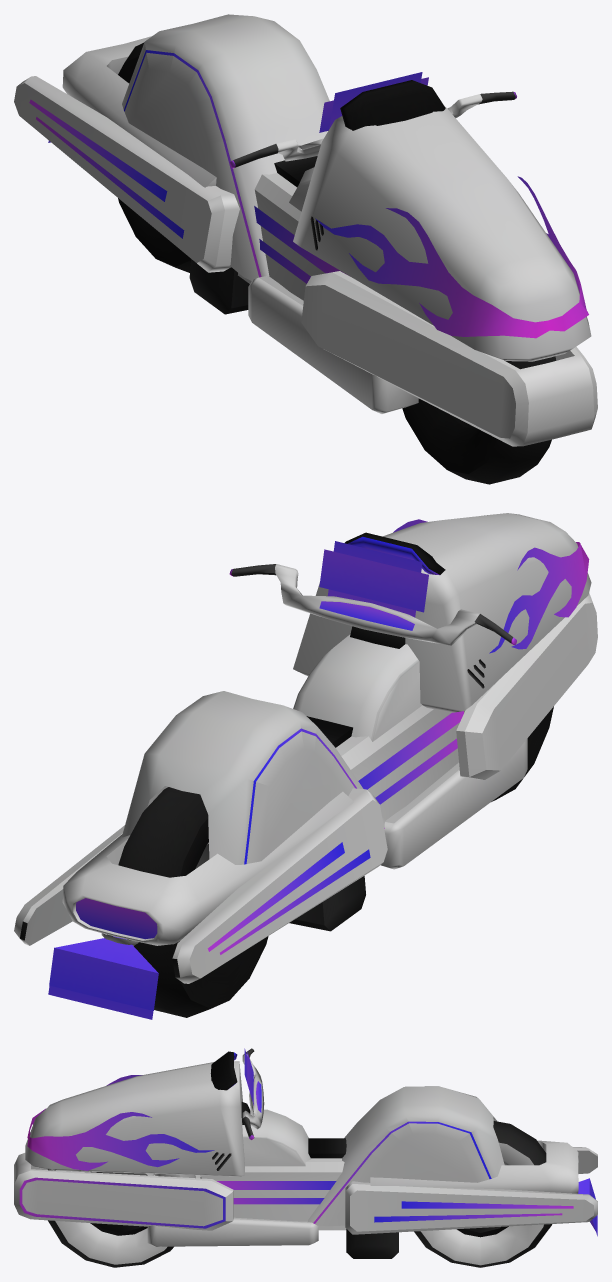
Rendered from SM_moto_V2_001.fbx.
3 views of the same model, one above another, from view 1: azimuth 30°, elevation 25°; view 2: azimuth 150°, elevation 25°; view 3: azimuth 270°, elevation 25° (orthographic). The views are drawn at different scales.
Visible parts, largest first — view 1: polySurface11; view 2: polySurface11; view 3: polySurface11.
Boxes of the visible parts, x1=… form: polySurface11: x1=14, y1=14, x2=597, y2=484; polySurface11: x1=14, y1=513, x2=597, y2=1019; polySurface11: x1=14, y1=1048, x2=597, y2=1267.
Bounding box in the file's own units: 156 × 168 × 438.
